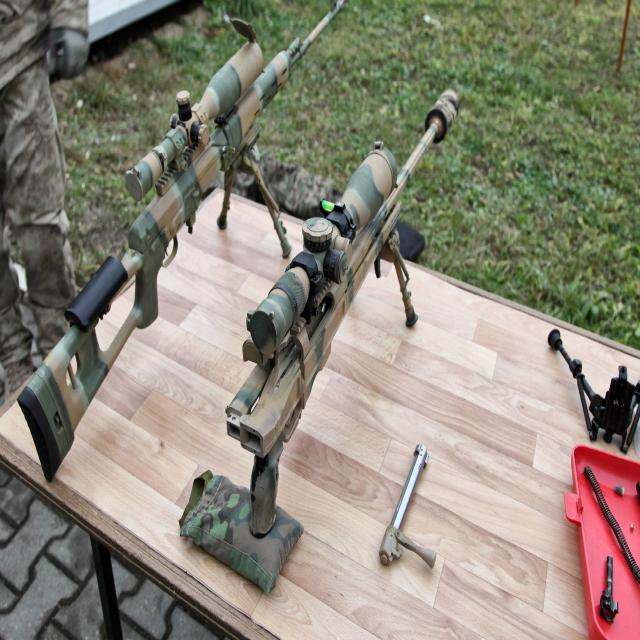firearm: (18, 0, 348, 483), (223, 85, 460, 540)
